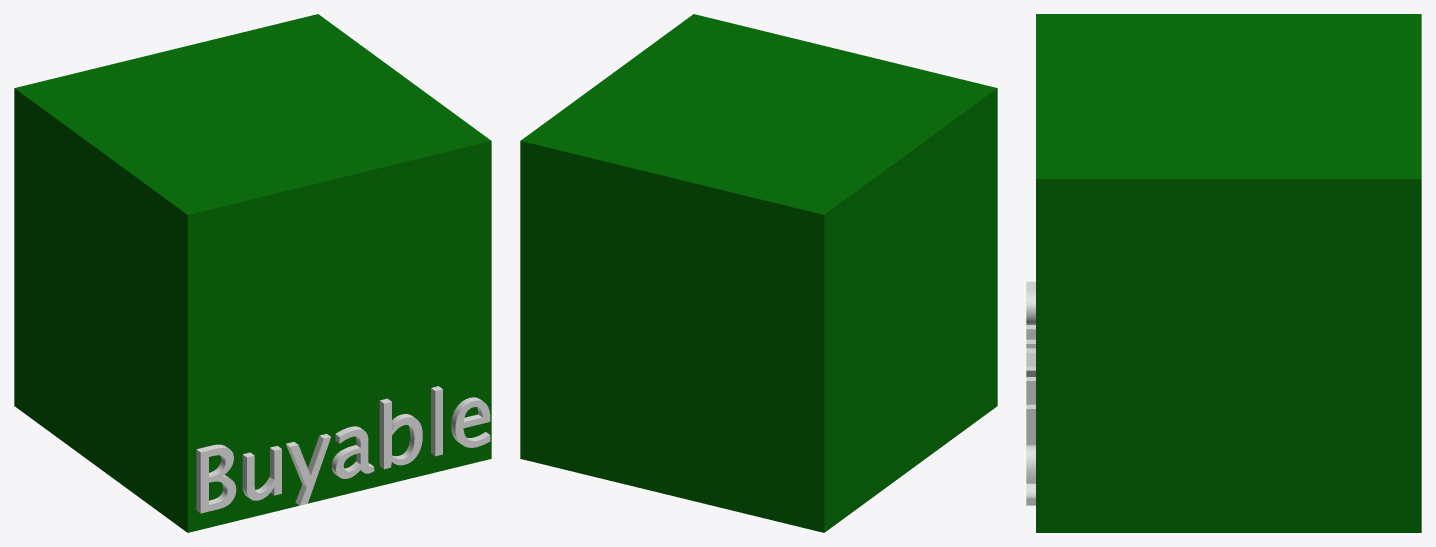
File: Buyable (1).fbx
3 renders of one model, left to right at view 1: azimuth 30°, elevation 25°; view 2: azimuth 150°, elevation 25°; view 3: azimuth 270°, elevation 25°, orthographic. The views are drawn at different scales.
Visible parts, largest first — view 1: Buyable__1_, typeMesh2; view 2: Buyable__1_; view 3: Buyable__1_, typeMesh2.
Boxes of the visible parts, x1,y1,x2,y2 form: Buyable__1_: (14,14,491,532); typeMesh2: (196,386,490,513); Buyable__1_: (520,14,997,532); Buyable__1_: (1036,14,1421,532); typeMesh2: (1026,281,1035,505).
Size of the model in its own units: 100 by 100 by 101.
